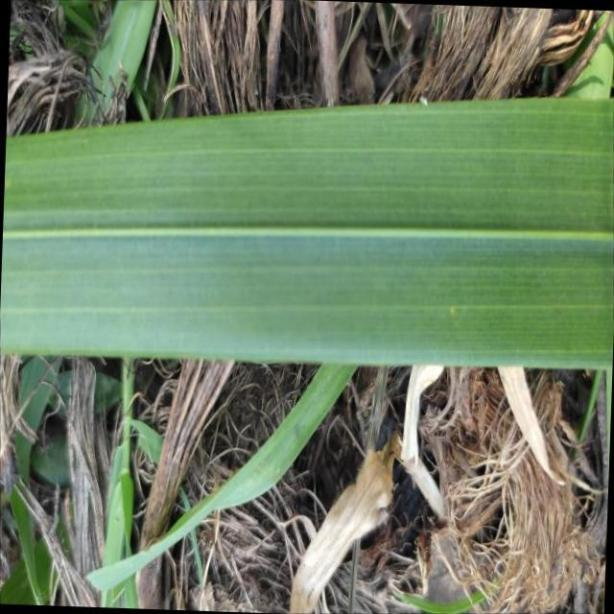Healthy: (0, 96, 614, 373)
